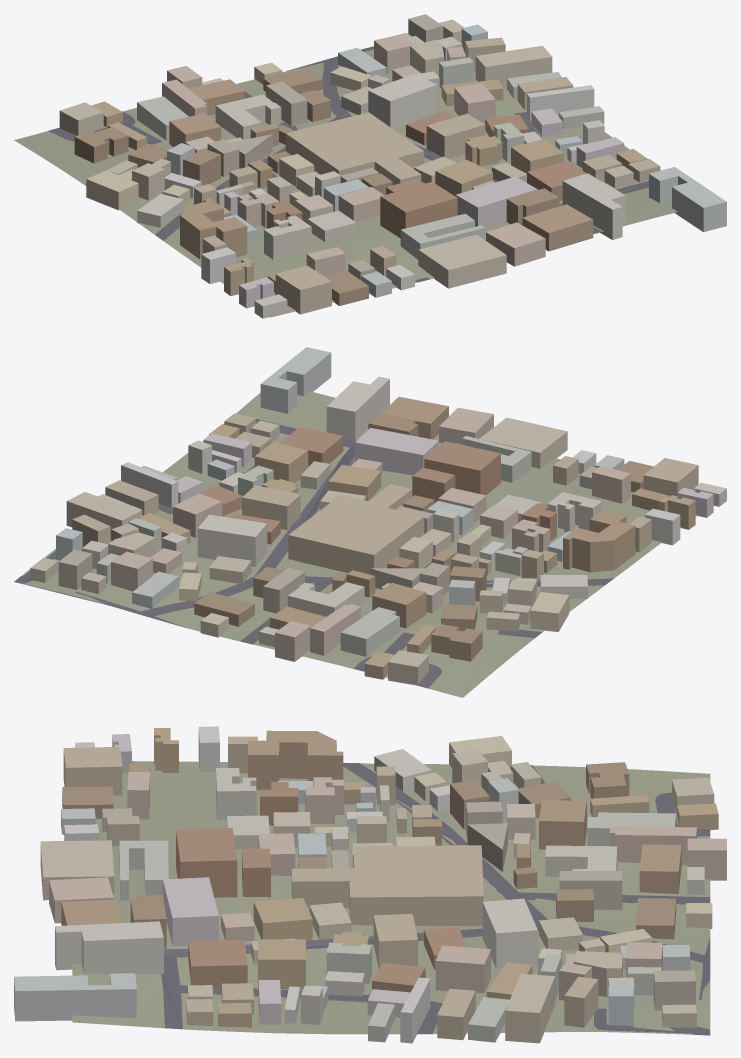
File: chunk_6_4.glb
The picture shows the model from 3 angles, top to bottom: view 1: azimuth 30°, elevation 25°; view 2: azimuth 150°, elevation 25°; view 3: azimuth 270°, elevation 25°; orthographic projection. The views are drawn at different scales.
Parts seen in each view (by area): view 1: geometry_128, geometry_127, geometry_101, geometry_20, geometry_17, geometry_94, geometry_18, geometry_11, geometry_105, geometry_85, geometry_4, geometry_0 (+69 smaller); view 2: geometry_128, geometry_127, geometry_11, geometry_20, geometry_94, geometry_17, geometry_18, geometry_105, geometry_101, geometry_8, geometry_96, geometry_3 (+63 smaller); view 3: geometry_128, geometry_127, geometry_18, geometry_20, geometry_11, geometry_17, geometry_105, geometry_94, geometry_101, geometry_85, geometry_99, geometry_0 (+89 smaller).
Part boxes in pixels (x1,y1,x2,y2): geometry_128: (14,38,677,317); geometry_127: (285,112,424,184); geometry_101: (418,234,506,288); geometry_20: (649,167,726,232); geometry_17: (380,182,457,238); geometry_94: (368,74,436,129); geometry_18: (562,173,625,239); geometry_11: (180,198,247,259); geometry_105: (455,176,537,226); geometry_85: (475,45,552,87); geometry_4: (522,204,593,251); geometry_0: (275,265,331,314); geometry_128: (14,391,697,697); geometry_127: (288,484,424,574); geometry_11: (563,510,635,572); geometry_20: (260,347,331,413); geometry_94: (197,514,267,566); geometry_17: (424,441,500,495); geometry_18: (326,376,389,440); geometry_105: (355,428,438,475); geometry_101: (479,417,567,468); geometry_8: (340,607,399,656); geometry_96: (242,485,300,530); geometry_3: (287,582,364,616); geometry_128: (72,761,710,1035); geometry_127: (291,845,483,925); geometry_18: (55,921,163,974); geometry_20: (14,973,136,1021); geometry_11: (248,730,343,790); geometry_17: (176,828,237,897); geometry_105: (162,877,218,945); geometry_94: (482,898,537,968); geometry_101: (40,840,114,900); geometry_85: (505,973,555,1043); geometry_99: (188,940,247,986); geometry_0: (63,747,122,795).
Size of the model in its own units: 266 by 22.48 by 279.
